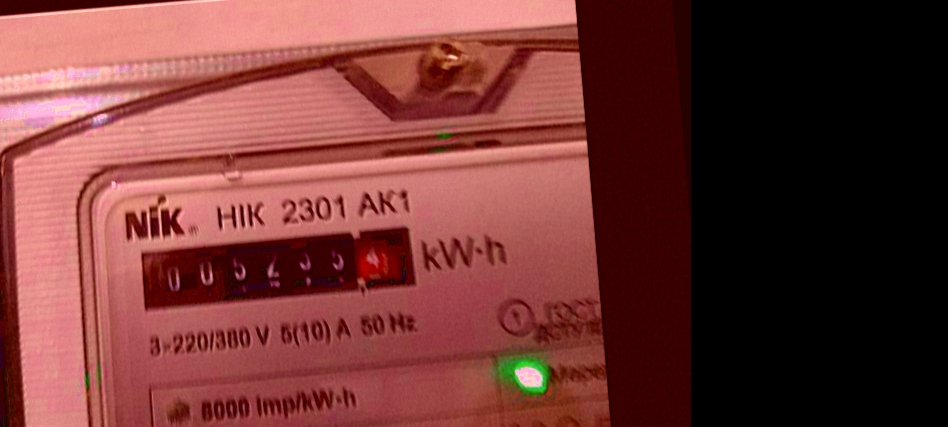0: (196, 255, 218, 289), (164, 261, 185, 294)
2: (261, 246, 285, 282)
3: (293, 241, 320, 276)
4: (362, 236, 387, 273)
5: (327, 237, 352, 275), (229, 250, 251, 284)
screen: (123, 212, 431, 324)
